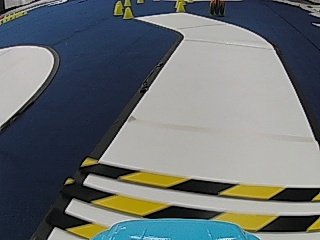bump: (53, 160, 319, 237)
